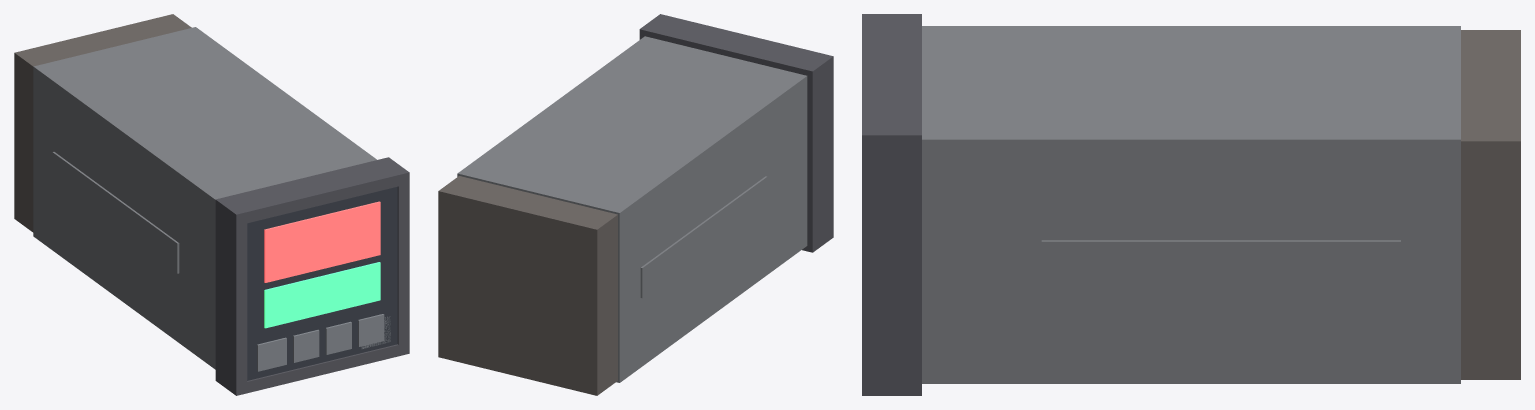
3 renders of one model, left to right at view 1: azimuth 30°, elevation 25°; view 2: azimuth 150°, elevation 25°; view 3: azimuth 270°, elevation 25°, orthographic. The views are drawn at different scales.
Visible parts, largest first — view 1: Body_Barrel, N1200_Bezel, Front_Overlay, Display_PV_Red, Rear_Terminal_Block, Display_SP_Green, Keypad_Buttons; view 2: Body_Barrel, Rear_Terminal_Block, N1200_Bezel; view 3: Body_Barrel, N1200_Bezel, Rear_Terminal_Block.
Boxes of the visible parts, <box> form: Body_Barrel: <box>33,27,376,369</box>; N1200_Bezel: <box>215,157,409,395</box>; Front_Overlay: <box>247,186,397,380</box>; Display_PV_Red: <box>264,201,380,282</box>; Rear_Terminal_Block: <box>14,14,191,232</box>; Display_SP_Green: <box>264,262,380,328</box>; Keypad_Buttons: <box>257,314,390,371</box>; Body_Barrel: <box>457,36,807,382</box>; Rear_Terminal_Block: <box>438,176,617,395</box>; N1200_Bezel: <box>639,14,833,252</box>; Body_Barrel: <box>922,26,1460,383</box>; N1200_Bezel: <box>862,14,921,395</box>; Rear_Terminal_Block: <box>1461,30,1520,379</box>.
Bounding box in the file's own units: 0.048 × 0.048 × 0.11.
